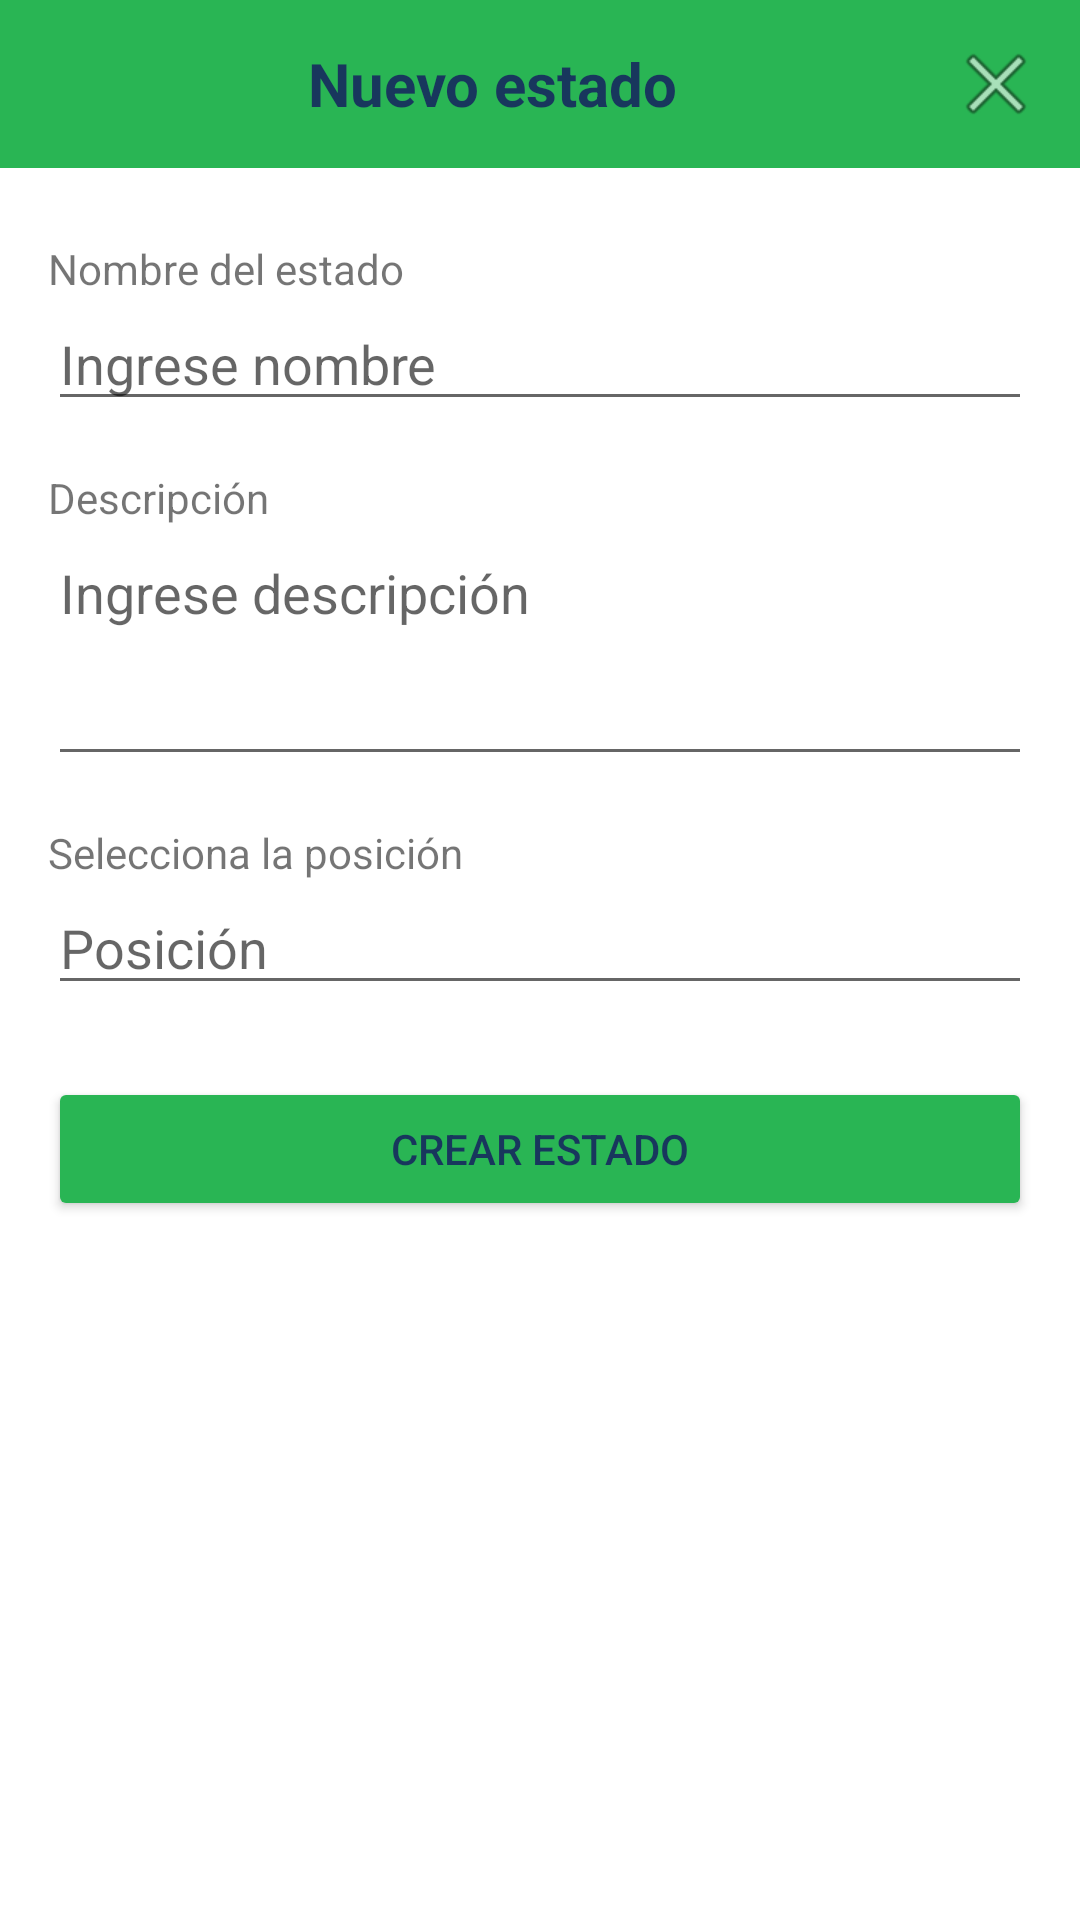

Icons on this 1080w x 1920h Android screen, each with its box as [x1=x1, y1=y1, x2=x2, y2=y2]:
Cancelar: [x1=966, y1=54, x2=1026, y2=114]
